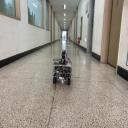cart: (52, 61, 72, 85)
